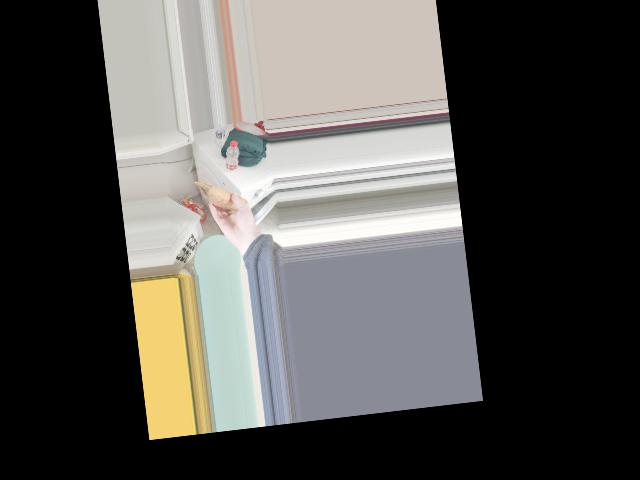sweet_potato: (208, 182, 244, 217)
